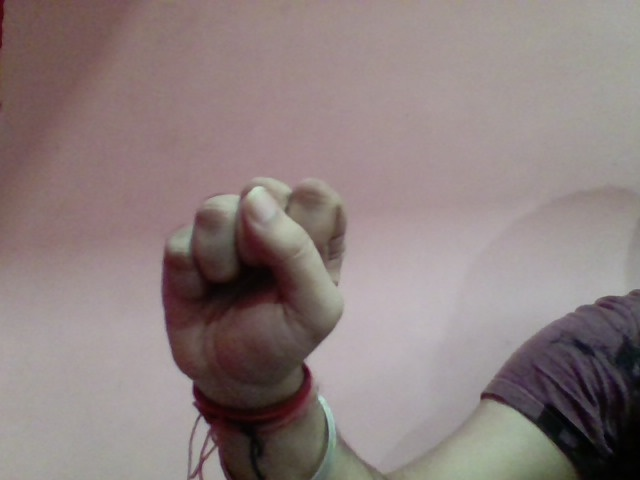s: (153, 161, 360, 395)
